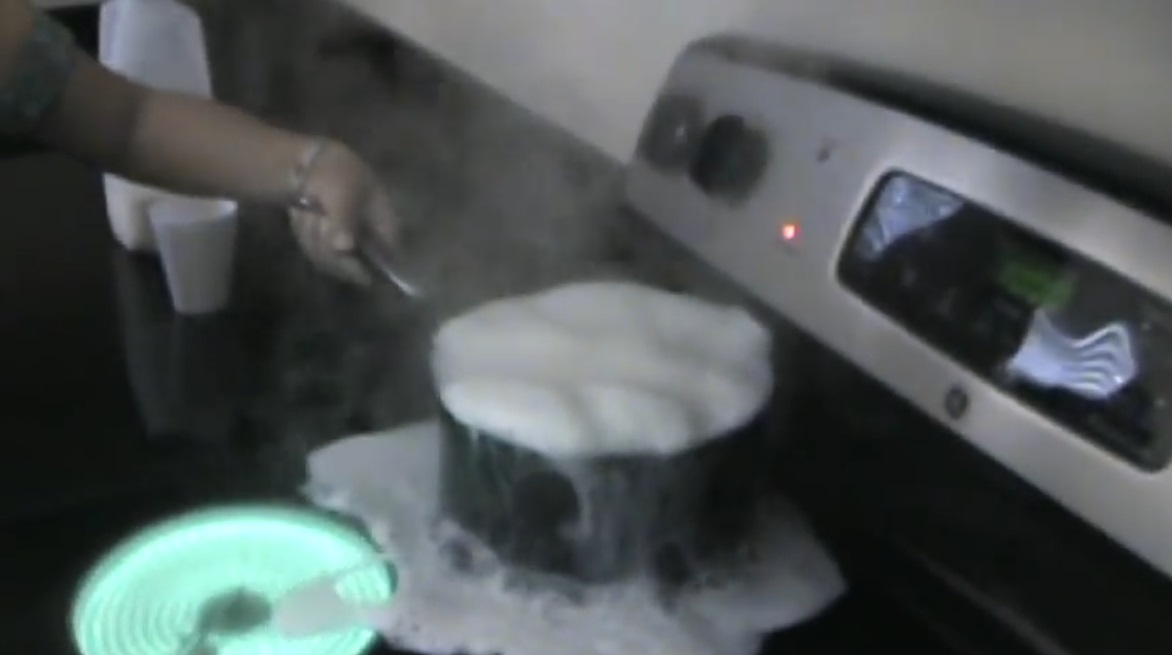Boiled: (316, 280, 865, 640)
